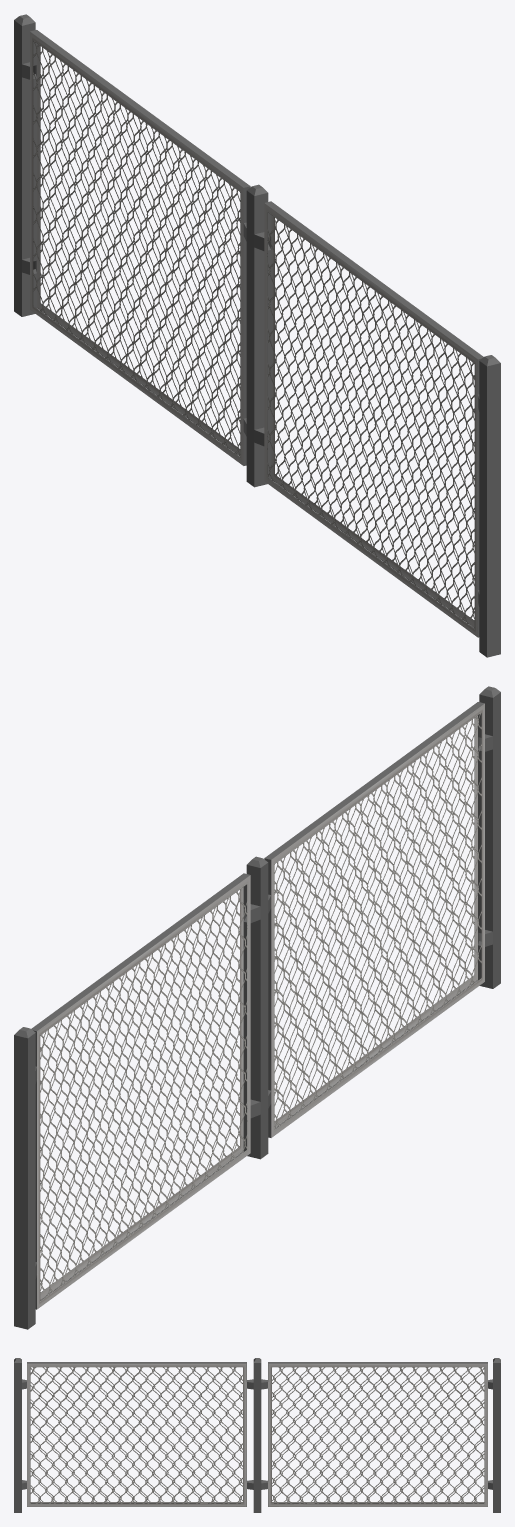
The model's file is fence.fbx.
3 renders of one model, top to bottom at view 1: azimuth 30°, elevation 25°; view 2: azimuth 150°, elevation 25°; view 3: azimuth 270°, elevation 25°, orthographic. The views are drawn at different scales.
Visible parts, largest first — view 1: Fence; view 2: Fence; view 3: Fence.
Boxes of the visible parts, x1,y1,x2,y2 form: Fence: [14, 14, 500, 657]; Fence: [14, 686, 500, 1329]; Fence: [14, 1358, 500, 1512].
Bounding box in the file's own units: 589 × 10 × 203.
